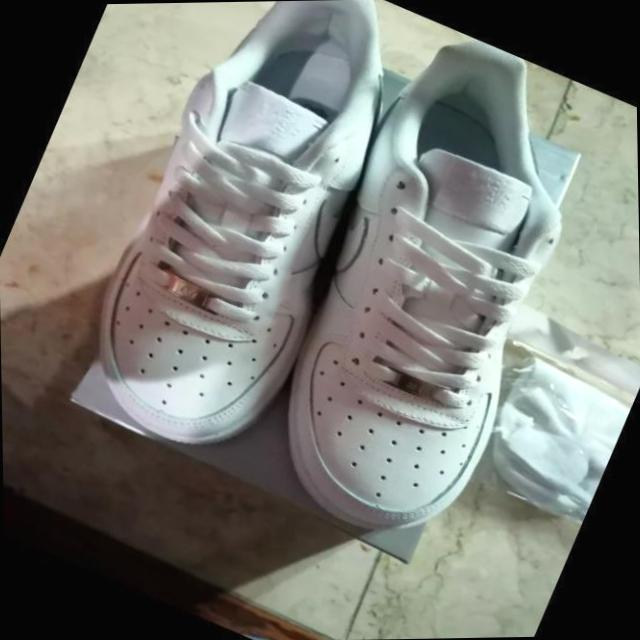nike_fake_airforce: (219, 13, 640, 571), (39, 0, 447, 482)
